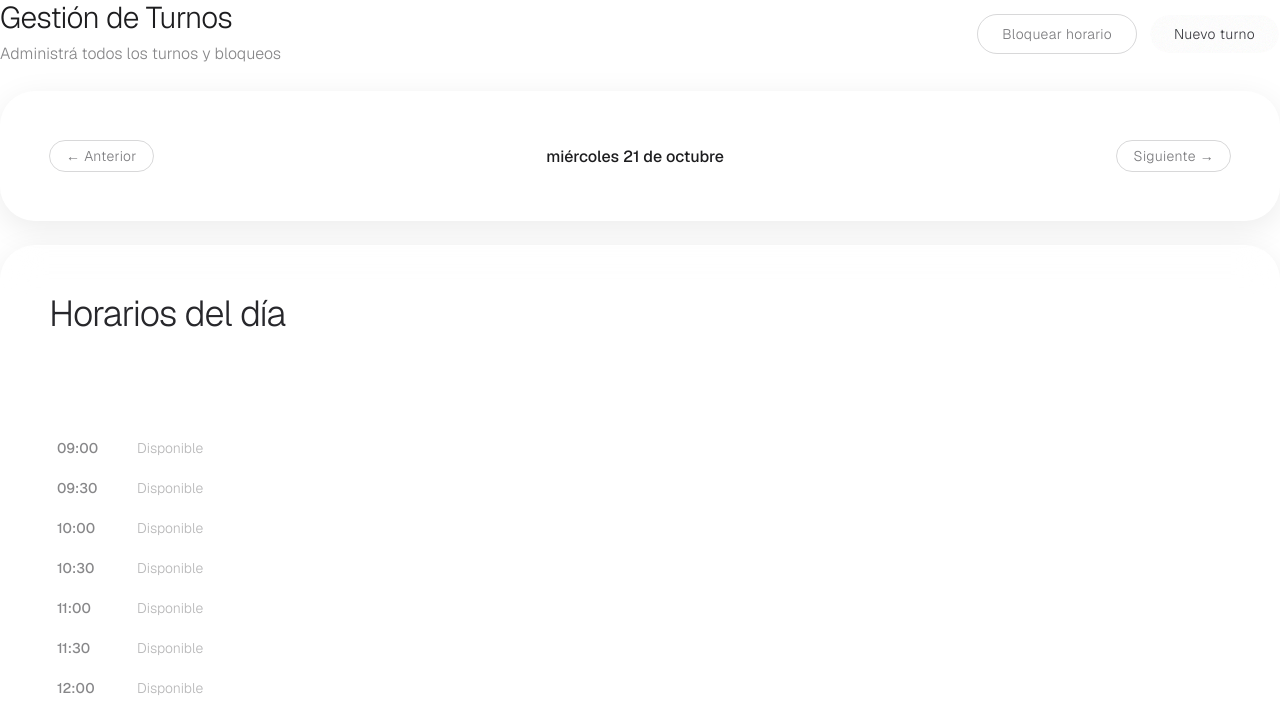
AdminBookingsPage — Nuevo turno CTA (NAIL-L3) › opens the booking dialog on click
This screenshot has width=1280, height=720.
Click the button "Nuevo turno". click: (1214, 34)
box: [1149, 14, 1279, 54]
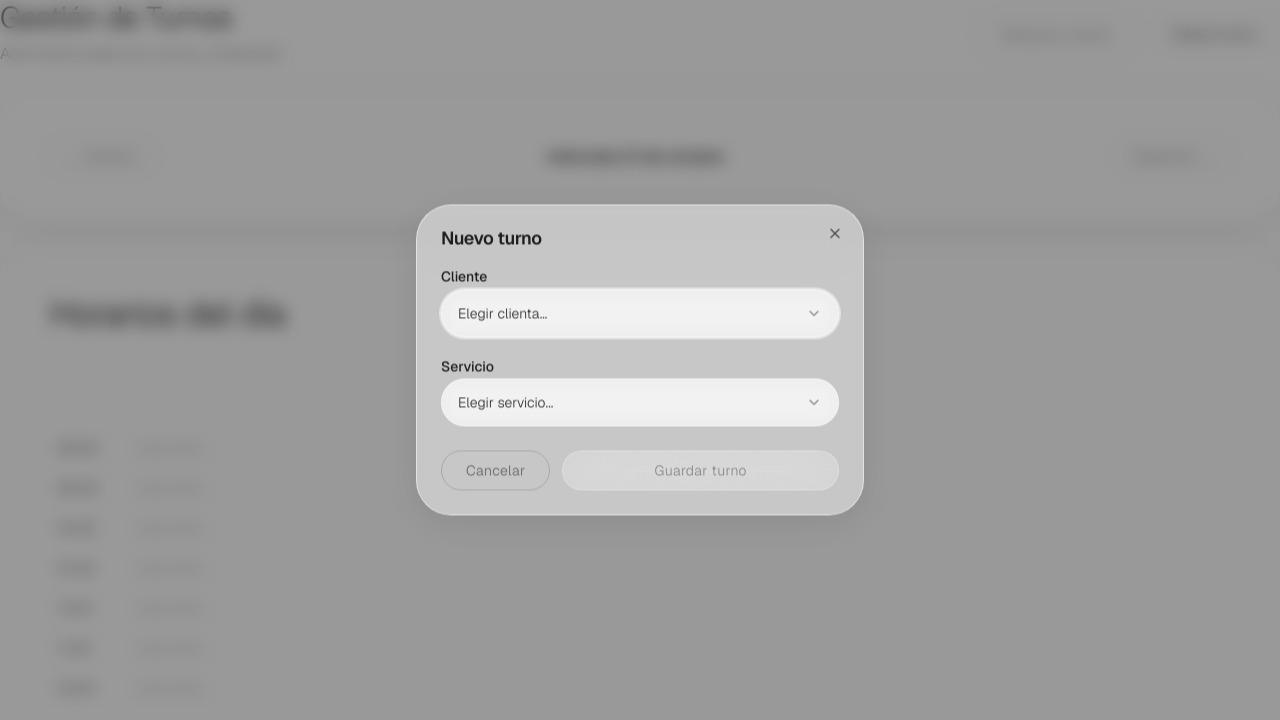
Expected: the dialog is shown, [416, 204, 864, 516]
Expected: the text "Cliente" is shown, [441, 267, 487, 285]
